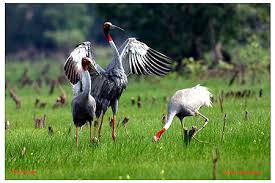seu_dau_do: (75, 20, 171, 141), (152, 86, 215, 142), (66, 55, 102, 143)
